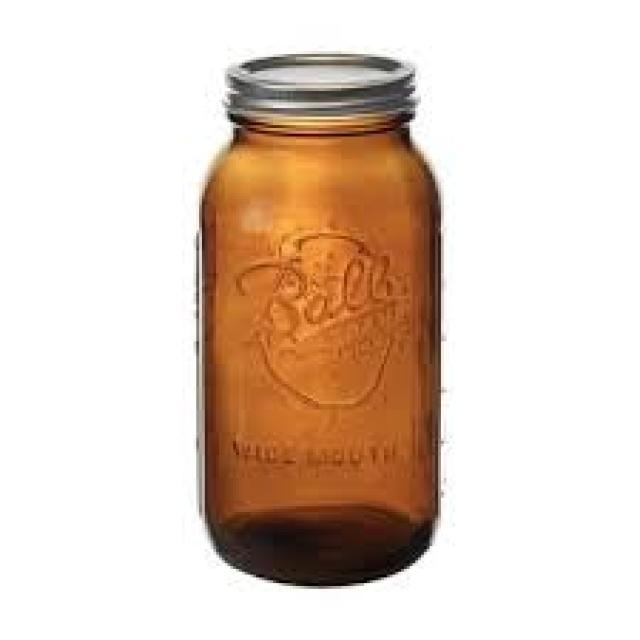glass: (196, 108, 441, 586)
metal: (225, 52, 415, 123)
